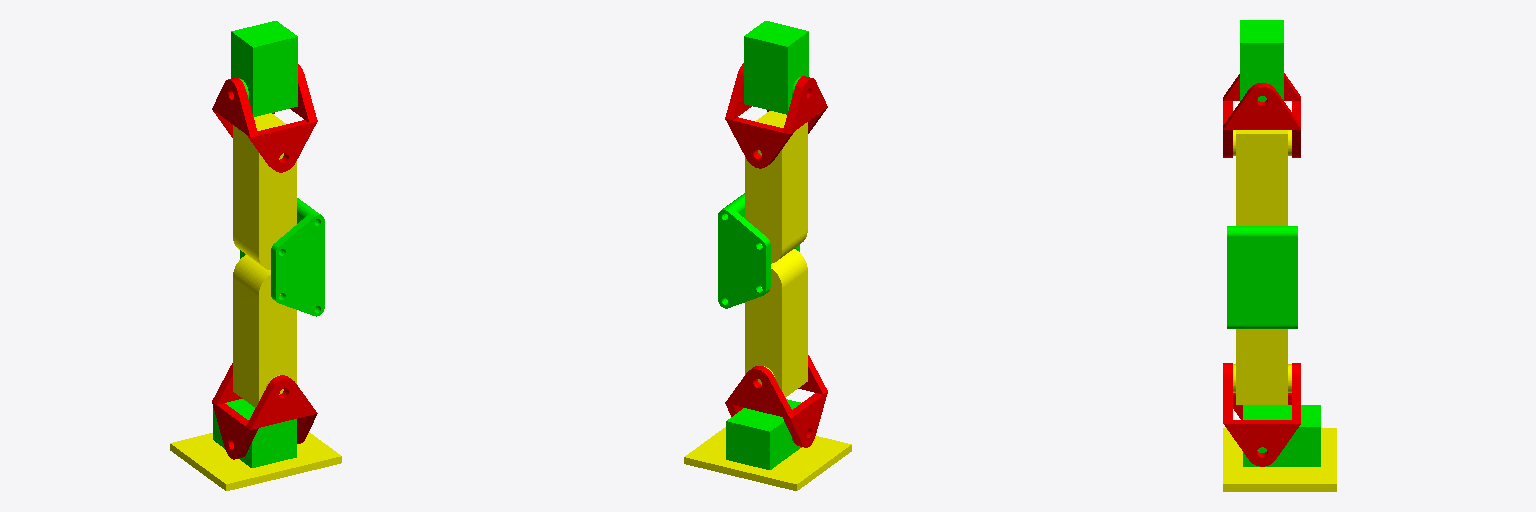
URDF robot description (Walker):
<?xml version="1.0" ?>
<robot name="Walker">

<link name="base_link">
  <inertial>
    <origin xyz="-1.5323256952977413e-17 1.225860556238193e-17 -0.02479496754972491" rpy="0 0 0"/>
    <mass value="0.3640061961261434"/>
    <inertia ixx="9.6e-05" iyy="0.000108" izz="5.8e-05" ixy="-0.0" iyz="0.0" ixz="-0.0"/>
  </inertial>
  <visual>
    <origin xyz="0 0 0" rpy="0 0 0"/>
    <geometry>
      <mesh filename="walker/Walker_description/meshes/base_link.stl" scale="0.001 0.001 0.001"/>
    </geometry>
    <material name="green">
      <color rgba="0 1 0 1"/>
    </material>  
  </visual>
  <collision>
    <origin xyz="0 0 0" rpy="0 0 0"/>
    <geometry>
      <mesh filename="walker/Walker_description/meshes/base_link.stl" scale="0.001 0.001 0.001"/>
    </geometry>
  </collision>
</link>

<link name="hip_1">
  <inertial>
    <origin xyz="-0.018649999999999313 -2.265347954282362e-16 -0.02000000000002449" rpy="0 0 0"/>
    <mass value="0.1612694354483246"/>
    <inertia ixx="7.7e-05" iyy="7.7e-05" izz="9.4e-05" ixy="0.0" iyz="0.0" ixz="0.0"/>
  </inertial>
  <visual>
    <origin xyz="-0.01865 0.0 0.037" rpy="0 0 0"/>
    <geometry>
      <mesh filename="walker/Walker_description/meshes/hip_1.stl" scale="0.001 0.001 0.001"/>
    </geometry>
    <material name="red">
      <color rgba="1 0 0 1"/>
    </material>  
  </visual>
  <collision>
    <origin xyz="-0.01865 0.0 0.037" rpy="0 0 0"/>
    <geometry>
      <mesh filename="walker/Walker_description/meshes/hip_1.stl" scale="0.001 0.001 0.001"/>
    </geometry>
  </collision>
</link>

<link name="thigh_1">
  <inertial>
    <origin xyz="1.651796839309404e-15 -0.018650000000000624 -0.03286069713276171" rpy="0 0 0"/>
    <mass value="0.6635304485624715"/>
    <inertia ixx="0.000524" iyy="0.000504" izz="0.000104" ixy="-0.0" iyz="-0.0" ixz="0.0"/>
  </inertial>
  <visual>
    <origin xyz="0.0 -0.01865 0.077" rpy="0 0 0"/>
    <geometry>
      <mesh filename="walker/Walker_description/meshes/thigh_1.stl" scale="0.001 0.001 0.001"/>
    </geometry>
    <material name="yellow">
      <color rgba="1 1 0 1"/>
    </material>  
  </visual>
  <collision>
    <origin xyz="0.0 -0.01865 0.077" rpy="0 0 0"/>
    <geometry>
      <mesh filename="walker/Walker_description/meshes/thigh_1.stl" scale="0.001 0.001 0.001"/>
    </geometry>
  </collision>
</link>

<link name="knee_1">
  <inertial>
    <origin xyz="0.02026723908891277 -0.016500000000000885 -0.015500000953674875" rpy="0 0 0"/>
    <mass value="0.3524642857407411"/>
    <inertia ixx="0.000199" iyy="0.000144" izz="0.000116" ixy="0.0" iyz="-0.0" ixz="-0.0"/>
  </inertial>
  <visual>
    <origin xyz="0.0 -0.0165 0.144" rpy="0 0 0"/>
    <geometry>
      <mesh filename="walker/Walker_description/meshes/knee_1.stl" scale="0.001 0.001 0.001"/>
    </geometry>
    <material name="green">
      <color rgba="0 1 0 1"/>
    </material>  
  </visual>
  <collision>
    <origin xyz="0.0 -0.0165 0.144" rpy="0 0 0"/>
    <geometry>
      <mesh filename="walker/Walker_description/meshes/knee_1.stl" scale="0.001 0.001 0.001"/>
    </geometry>
  </collision>
</link>

<link name="shin_1">
  <inertial>
    <origin xyz="-2.8776119280261764e-15 -0.016500000000000934 -0.034139304774587736" rpy="0 0 0"/>
    <mass value="0.663530448562467"/>
    <inertia ixx="0.000524" iyy="0.000504" izz="0.000104" ixy="0.0" iyz="0.0" ixz="0.0"/>
  </inertial>
  <visual>
    <origin xyz="0.0 -0.0165 0.175" rpy="0 0 0"/>
    <geometry>
      <mesh filename="walker/Walker_description/meshes/shin_1.stl" scale="0.001 0.001 0.001"/>
    </geometry>
    <material name="yellow">
      <color rgba="1 1 0 1"/>
    </material>  
  </visual>
  <collision>
    <origin xyz="0.0 -0.0165 0.175" rpy="0 0 0"/>
    <geometry>
      <mesh filename="walker/Walker_description/meshes/shin_1.stl" scale="0.001 0.001 0.001"/>
    </geometry>
  </collision>
</link>

<link name="ankle_1">
  <inertial>
    <origin xyz="-5.429777469623923e-15 -0.018650000000001252 -0.02000000190732476" rpy="0 0 0"/>
    <mass value="0.16126943544832473"/>
    <inertia ixx="7.7e-05" iyy="7.7e-05" izz="9.4e-05" ixy="0.0" iyz="0.0" ixz="0.0"/>
  </inertial>
  <visual>
    <origin xyz="0.0 -0.01865 0.242" rpy="0 0 0"/>
    <geometry>
      <mesh filename="walker/Walker_description/meshes/ankle_1.stl" scale="0.001 0.001 0.001"/>
    </geometry>
    <material name="red">
      <color rgba="1 0 0 1"/>
    </material>  
  </visual>
  <collision>
    <origin xyz="0.0 -0.01865 0.242" rpy="0 0 0"/>
    <geometry>
      <mesh filename="walker/Walker_description/meshes/ankle_1.stl" scale="0.001 0.001 0.001"/>
    </geometry>
  </collision>
</link>

<link name="foot_1">
  <inertial>
    <origin xyz="-0.018650000000009378 0.012206893260933448 2.056319544363472e-06" rpy="0 0 0"/>
    <mass value="0.3639507075296119"/>
    <inertia ixx="9.6e-05" iyy="5.8e-05" izz="0.000107" ixy="0.0" iyz="0.0" ixz="0.0"/>
  </inertial>
  <visual>
    <origin xyz="-0.01865 0.0 0.282" rpy="0 0 0"/>
    <geometry>
      <mesh filename="walker/Walker_description/meshes/foot_1.stl" scale="0.001 0.001 0.001"/>
    </geometry>
    <material name="green">
      <color rgba="0 1 0 1"/>
    </material>  
  </visual>
  <collision>
    <origin xyz="-0.01865 0.0 0.282" rpy="0 0 0"/>
    <geometry>
      <mesh filename="walker/Walker_description/meshes/foot_1.stl" scale="0.001 0.001 0.001"/>
    </geometry>
  </collision>
</link>

<link name="end_1">
  <inertial>
    <origin xyz="-2.3868654062011195e-10 0.011187985363426634 -0.0025000018924326572" rpy="0 0 0"/>
    <mass value="0.23876488296307571"/>
    <inertia ixx="0.000103" iyy="0.000144" izz="0.000246" ixy="-0.0" iyz="0.0" ixz="0.0"/>
  </inertial>
  <visual>
    <origin xyz="0.0 0.0 0.296" rpy="0 0 0"/>
    <geometry>
      <mesh filename="walker/Walker_description/meshes/end_1.stl" scale="0.001 0.001 0.001"/>
    </geometry>
    <material name="yellow">
      <color rgba="1 1 0 1"/>
    </material>  
  </visual>
  <collision>
    <origin xyz="0.0 0.0 0.296" rpy="0 0 0"/>
    <geometry>
      <mesh filename="walker/Walker_description/meshes/end_1.stl" scale="0.001 0.001 0.001"/>
    </geometry>
  </collision>
</link>

<joint name="Revolute 31" type="continuous">
  <origin xyz="0.01865 0.0 -0.037" rpy="0 0 0"/>
  <parent link="base_link"/>
  <child link="hip_1"/>
  <axis xyz="1.0 -0.0 0.0"/>
  <!-- <limit lower="-1.57" upper="1.57" effort="100" velocity="1.0"/> -->
</joint>

<joint name="Revolute 32" type="continuous">
  <origin xyz="-0.01865 0.01865 -0.04" rpy="0 0 0"/>
  <parent link="hip_1"/>
  <child link="thigh_1"/>
  <axis xyz="-0.0 1.0 -0.0"/>
  <!-- <limit lower="-1.57" upper="0.78" effort="100" velocity="1.0"/> -->
</joint>

<joint name="Revolute 33" type="continuous">
  <origin xyz="0.0 -0.00215 -0.067" rpy="0 0 0"/>
  <parent link="thigh_1"/>
  <child link="knee_1"/>
  <axis xyz="-0.0 -1.0 0.0"/>
  <!-- <limit lower="-3.14" upper="3.14" effort="100" velocity="1.0"/> -->
</joint>

<joint name="Revolute 34" type="continuous">
  <origin xyz="0.0 0.0 -0.031" rpy="0 0 0"/>
  <parent link="knee_1"/>
  <child link="shin_1"/>
  <axis xyz="0.0 1.0 -0.0"/>
  <!-- <limit lower="0" upper="1.57" effort="100" velocity="1.0"/> -->
</joint>

<joint name="Revolute 35" type="continuous">
  <origin xyz="0.0 0.00215 -0.067" rpy="0 0 0"/>
  <parent link="shin_1"/>
  <child link="ankle_1"/>
  <axis xyz="-0.0 1.0 0.0"/>
</joint>

<joint name="Revolute 36" type="continuous">
  <origin xyz="0.01865 -0.01865 -0.04" rpy="0 0 0"/>
  <parent link="ankle_1"/>
  <child link="foot_1"/>
  <axis xyz="1.0 -0.0 0.0"/>
</joint>

<joint name="Rigid 37" type="fixed">
  <origin xyz="-0.01865 0.0 -0.014" rpy="0 0 0"/>
  <parent link="foot_1"/>
  <child link="end_1"/>
</joint>

</robot>

--- Render facts (derived) ---
3 views of the same robot in one strip: view 1: azimuth 30°, elevation 25°; view 2: azimuth 150°, elevation 25°; view 3: azimuth 270°, elevation 25° (orthographic).
Model Walker with 8 links and 7 joints (6 continuous, 1 fixed), rooted at base_link, posed all joints at 0.
Visible links, largest first — view 1: shin_1, thigh_1, base_link, knee_1, ankle_1, end_1, hip_1, foot_1; view 2: shin_1, thigh_1, base_link, knee_1, hip_1, end_1, ankle_1, foot_1; view 3: knee_1, thigh_1, shin_1, end_1, hip_1, ankle_1, base_link, foot_1.
Link boxes in pixels (x1,y1,x2,y2): shin_1: (233, 255, 296, 407); thigh_1: (233, 113, 296, 269); base_link: (231, 21, 297, 116); knee_1: (240, 198, 324, 316); ankle_1: (212, 363, 317, 459); end_1: (170, 432, 341, 490); hip_1: (212, 64, 317, 172); foot_1: (213, 399, 296, 467); shin_1: (745, 249, 807, 397); thigh_1: (745, 111, 807, 263); base_link: (744, 21, 808, 114); knee_1: (718, 193, 799, 308); hip_1: (725, 63, 827, 168); end_1: (684, 427, 851, 490); ankle_1: (725, 355, 827, 447); foot_1: (726, 399, 801, 469); knee_1: (1227, 226, 1297, 328); thigh_1: (1233, 130, 1291, 225); shin_1: (1233, 329, 1291, 404); end_1: (1223, 428, 1336, 491); hip_1: (1223, 73, 1300, 157); ankle_1: (1223, 363, 1300, 466); base_link: (1240, 20, 1283, 101); foot_1: (1243, 405, 1320, 466).
Bounding box of the posed robot: 0.085 × 0.0716 × 0.301 m (x, y, z).
Meshes: 8 distinct files referenced, 8 mesh visuals loaded (8 binary STL).
